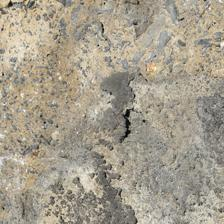Crack: (41, 33, 101, 189)
